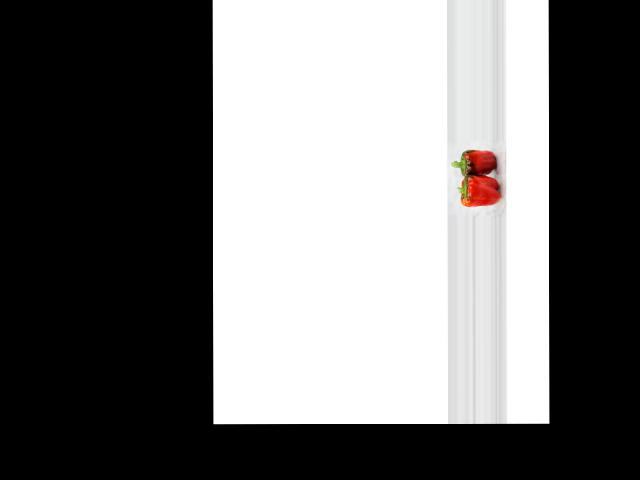bell_pepper: (455, 175, 501, 212)
